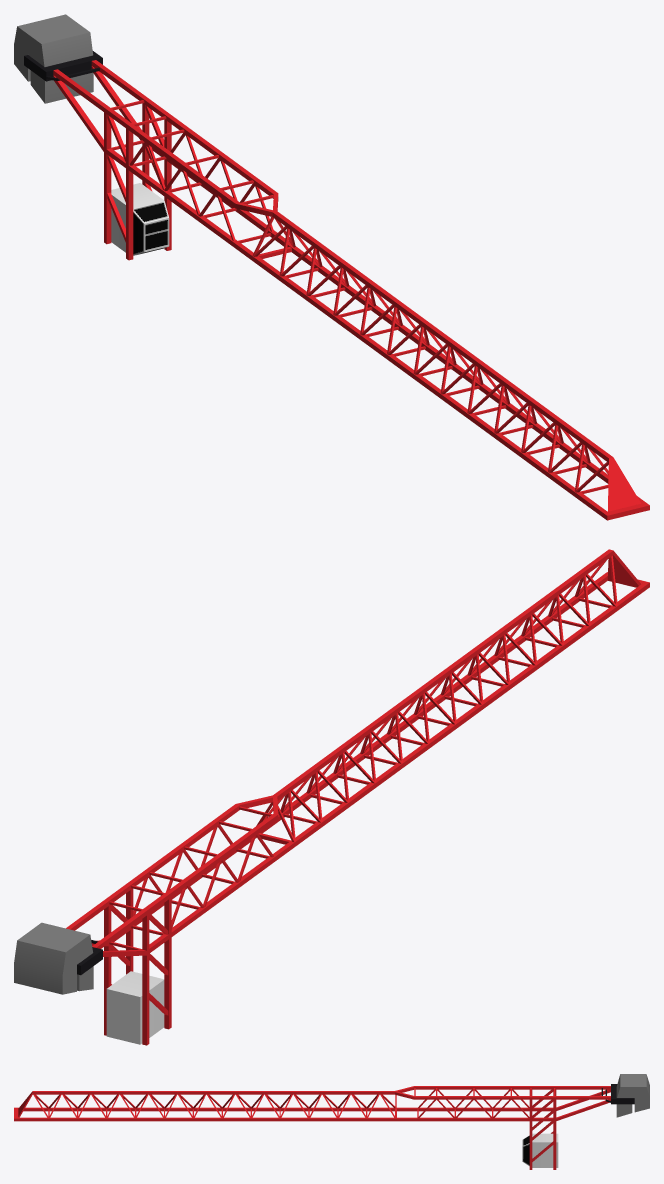
Rendered from crane_top.fbx.
3 views of the same model, one above another, from view 1: azimuth 30°, elevation 25°; view 2: azimuth 150°, elevation 25°; view 3: azimuth 270°, elevation 25° (orthographic). The views are drawn at different scales.
Visible parts, largest first — view 1: top_o_crane; view 2: top_o_crane; view 3: top_o_crane.
Part boxes in pixels (bbox=[...]): top_o_crane: bbox=[14, 14, 649, 520]; top_o_crane: bbox=[14, 549, 649, 1045]; top_o_crane: bbox=[14, 1074, 649, 1169].
Bounding box in the file's own units: 1.25 × 3.26 × 22.44.
1 material, 1 textured.
